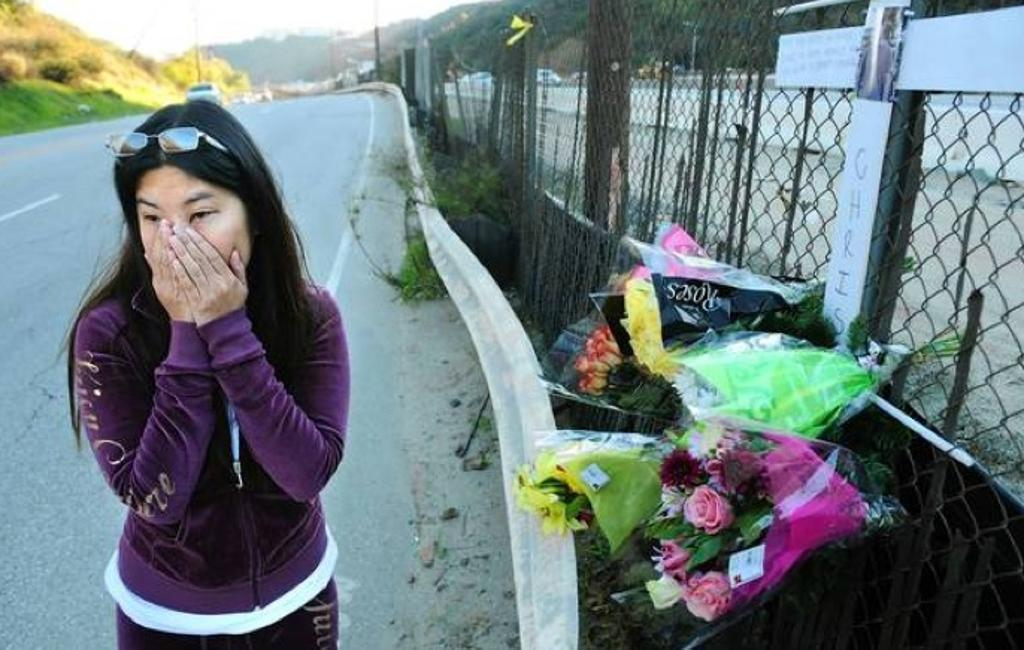face: (132, 174, 250, 312)
